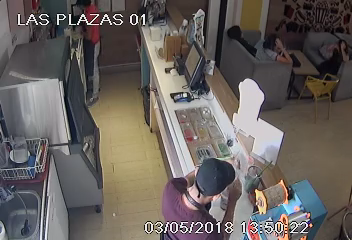ocupado: (223, 19, 352, 110)
